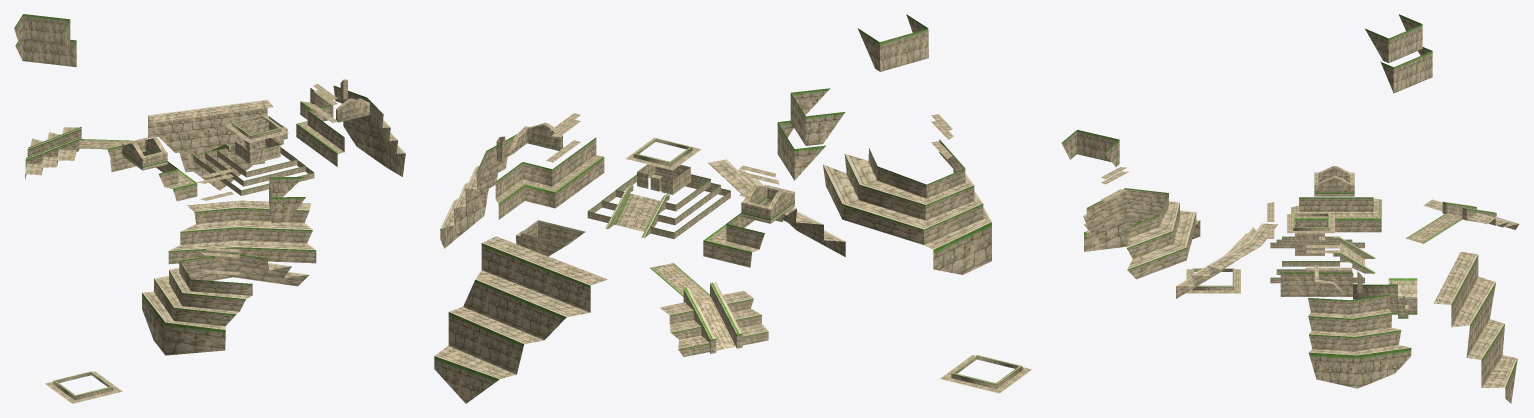
The model's file is FP_jog_island.md.027.obj.
The picture shows the model from 3 angles, left to right: view 1: azimuth 30°, elevation 25°; view 2: azimuth 150°, elevation 25°; view 3: azimuth 270°, elevation 25°; orthographic projection. The views are drawn at different scales.
Visible parts, largest first — view 1: FP_jog_island.mo.027; view 2: FP_jog_island.mo.027; view 3: FP_jog_island.mo.027.
Part boxes in pixels (x1,y1,x2,y2): FP_jog_island.mo.027: (14, 14, 405, 403); FP_jog_island.mo.027: (434, 14, 1031, 403); FP_jog_island.mo.027: (1061, 14, 1519, 403).
Bounding box in the file's own units: 21.97 × 14.88 × 22.12.
1 material, 1 textured.
